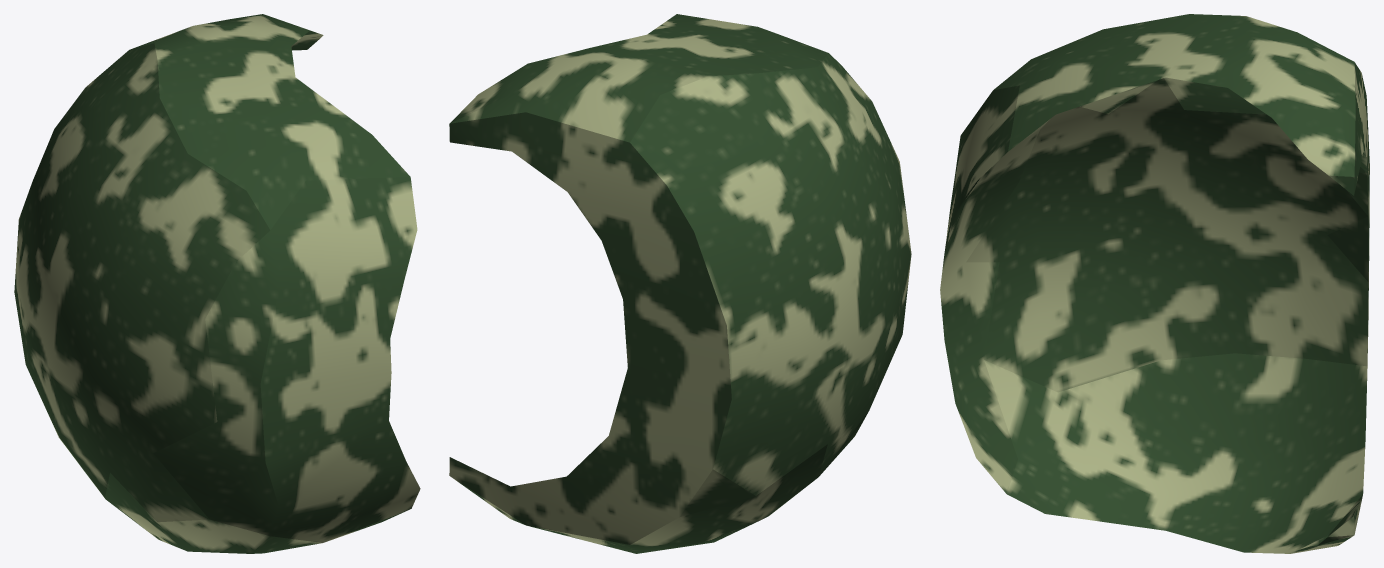
The model's file is link_body_11_composite.obj.
The picture shows the model from 3 angles, left to right: view 1: azimuth 30°, elevation 25°; view 2: azimuth 150°, elevation 25°; view 3: azimuth 270°, elevation 25°; orthographic projection. The views are drawn at different scales.
Visible parts, largest first — view 1: link_body_11; view 2: link_body_11; view 3: link_body_11.
Boxes of the visible parts, x1,y1,x2,y2 form: link_body_11: [14, 14, 420, 553]; link_body_11: [449, 14, 911, 553]; link_body_11: [940, 14, 1369, 553].
Bounding box in the file's own units: 14.08 × 19.11 × 15.34.
Materials: 1 (1 with a texture image).
